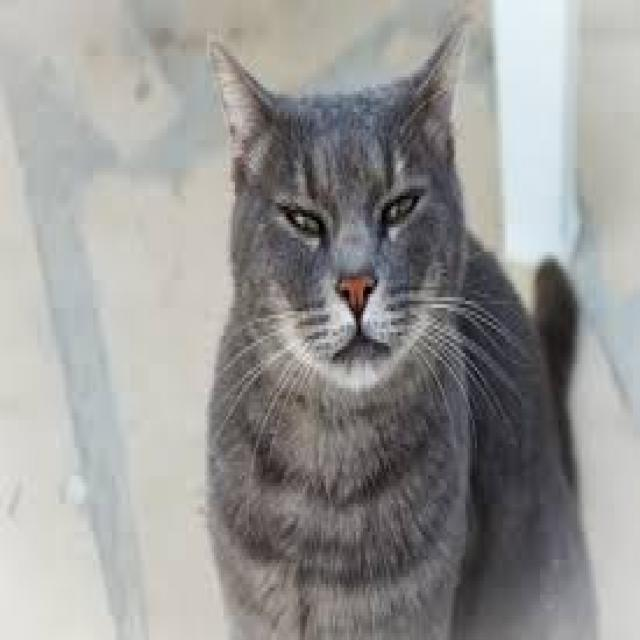Cat: (200, 13, 599, 640)
